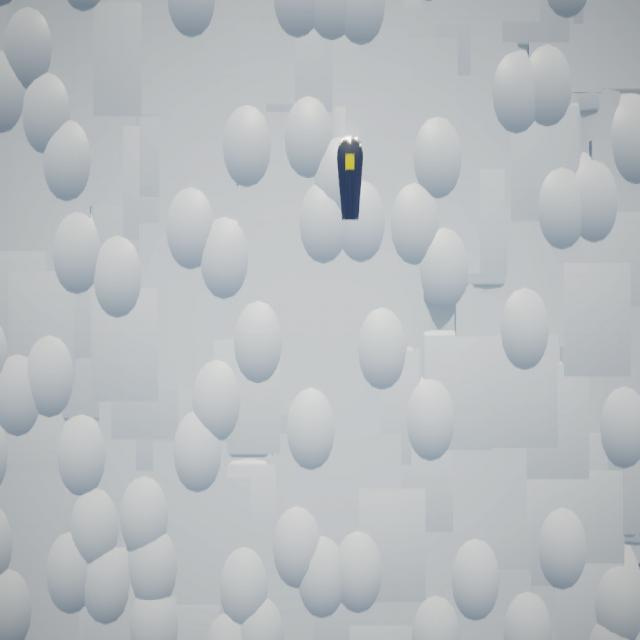handle_folk: (338, 137, 364, 220)
